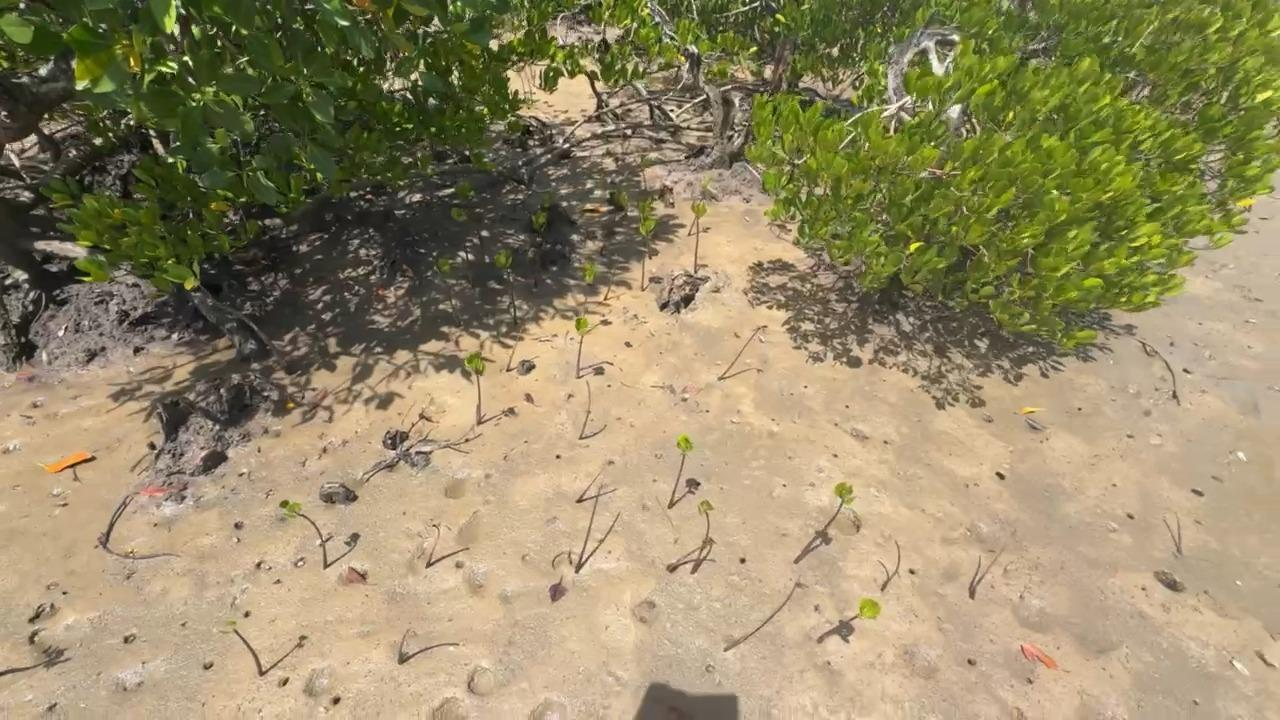Tree: (277, 500, 327, 569), (574, 511, 619, 574), (217, 619, 263, 674), (400, 641, 459, 663), (426, 547, 469, 568), (576, 487, 619, 504)
